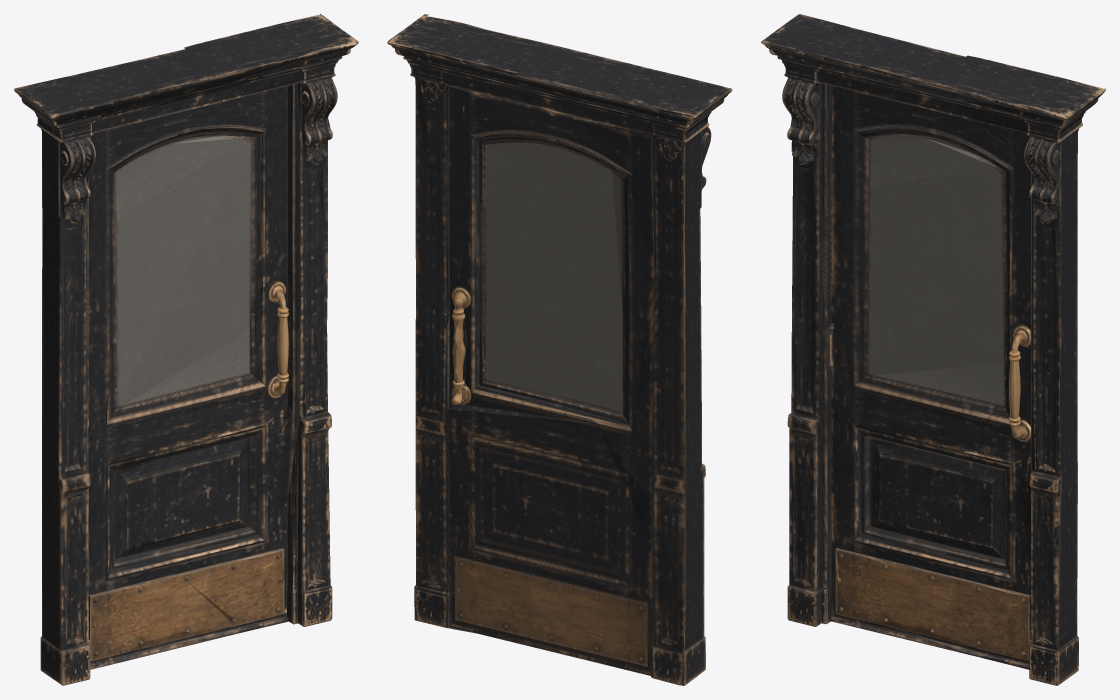
Rendered from store-door.glb.
3 views of the same model, side by side, from view 1: azimuth 30°, elevation 25°; view 2: azimuth 150°, elevation 25°; view 3: azimuth 330°, elevation 25° (orthographic).
Parts seen in each view (by area): view 1: Mesh_0; view 2: Mesh_0; view 3: Mesh_0.
Boxes of the visible parts, x1,y1,x2,y2 form: Mesh_0: [14, 14, 358, 685]; Mesh_0: [387, 14, 732, 685]; Mesh_0: [761, 14, 1105, 685].
Size of the model in its own units: 1.05 by 1.9 by 0.2276.
Materials: 1 (1 with a texture image).
